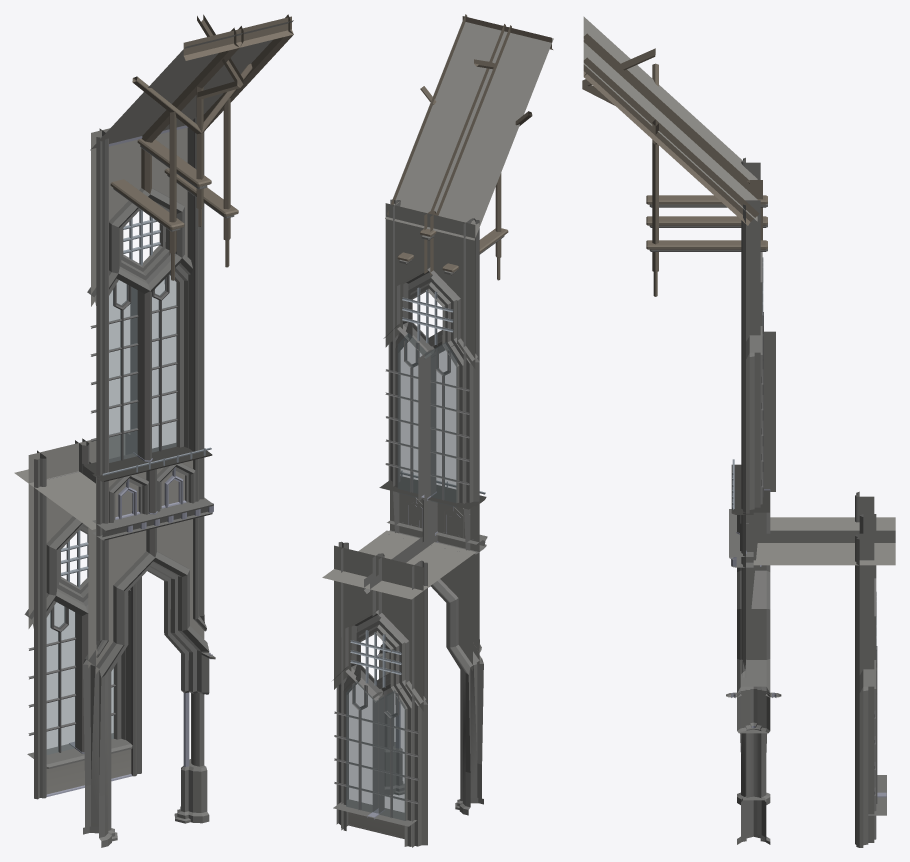
Rendered from Door_Connection_Tile.fbx.
3 renders of one model, left to right at view 1: azimuth 30°, elevation 25°; view 2: azimuth 150°, elevation 25°; view 3: azimuth 270°, elevation 25°, orthographic. The views are drawn at different scales.
Parts seen in each view (by area): view 1: polySurface69, polySurface2, polySurface72, pCube15, pCube130, polySurface20, polySurface453, pCube109, polySurface461, polySurface459, polySurface68, pCube121 (+23 smaller); view 2: pCube130, polySurface76, polySurface20, pCube109, polySurface69, pCube121, pCube15, polySurface453, polySurface461, polySurface460, polySurface459, pCube30 (+19 smaller); view 3: polySurface69, polySurface2, polySurface72, pCube130, pCube30, polySurface82, polySurface76, polySurface20, polySurface80, polySurface68, polySurface79, pCube137 (+5 smaller).
Part boxes in pixels (x1=…): polySurface69: x1=83, y1=469, x2=215, y2=847; polySurface2: x1=96, y1=117, x2=206, y2=657; polySurface72: x1=34, y1=433, x2=141, y2=799; pCube15: x1=88, y1=460, x2=204, y2=673; pCube130: x1=90, y1=20, x2=293, y2=150; polySurface20: x1=87, y1=188, x2=192, y2=447; polySurface453: x1=109, y1=280, x2=137, y2=462; pCube109: x1=91, y1=127, x2=187, y2=306; polySurface461: x1=46, y1=602, x2=75, y2=754; polySurface459: x1=152, y1=275, x2=176, y2=452; polySurface68: x1=130, y1=287, x2=151, y2=460; pCube121: x1=28, y1=432, x2=129, y2=628; pCube130: x1=385, y1=21, x2=553, y2=240; polySurface76: x1=332, y1=610, x2=427, y2=846; polySurface20: x1=383, y1=267, x2=479, y2=503; pCube109: x1=385, y1=203, x2=475, y2=368; polySurface69: x1=377, y1=498, x2=483, y2=815; pCube121: x1=334, y1=545, x2=423, y2=711; pCube15: x1=390, y1=490, x2=479, y2=670; polySurface453: x1=427, y1=342, x2=457, y2=507; polySurface461: x1=375, y1=690, x2=405, y2=820; polySurface460: x1=346, y1=681, x2=375, y2=812; polySurface459: x1=397, y1=333, x2=427, y2=497; pCube30: x1=322, y1=530, x2=475, y2=599; polySurface69: x1=726, y1=492, x2=781, y2=844; polySurface2: x1=741, y1=157, x2=760, y2=677; polySurface72: x1=855, y1=491, x2=874, y2=847; pCube130: x1=583, y1=16, x2=757, y2=221; pCube30: x1=753, y1=517, x2=895, y2=565; polySurface82: x1=583, y1=57, x2=759, y2=225; polySurface76: x1=859, y1=578, x2=876, y2=847; polySurface20: x1=746, y1=252, x2=762, y2=513; polySurface80: x1=583, y1=33, x2=751, y2=191; polySurface68: x1=764, y1=331, x2=775, y2=491; polySurface79: x1=766, y1=530, x2=895, y2=542; pCube137: x1=646, y1=240, x2=767, y2=249.
Size of the model in its own units: 5 by 30.7 by 11.04.
